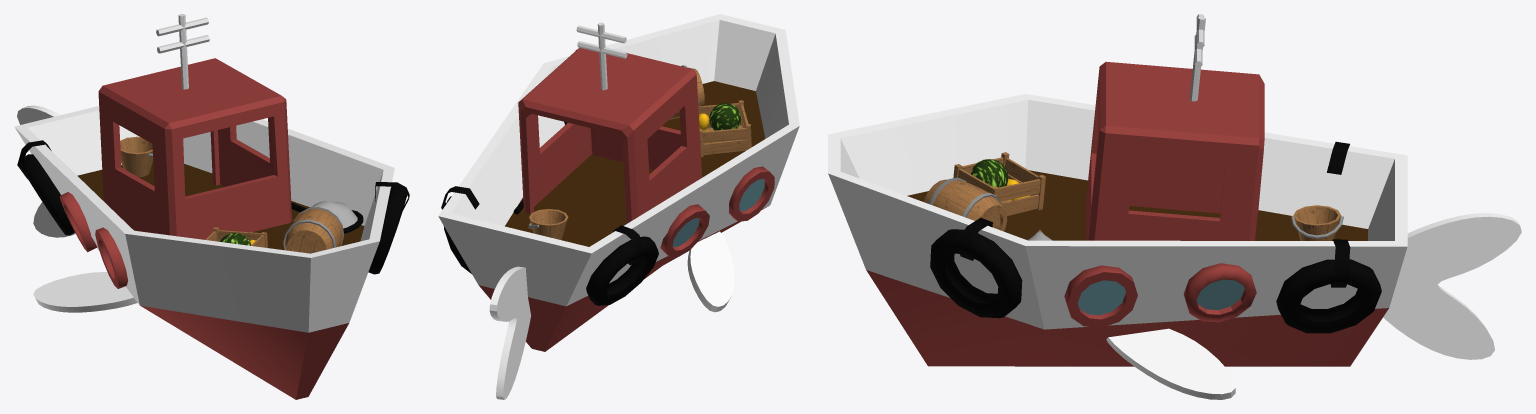
Rendered from korablya.fbx.
3 renders of one model, left to right at view 1: azimuth 30°, elevation 25°; view 2: azimuth 150°, elevation 25°; view 3: azimuth 270°, elevation 25°, orthographic. The views are drawn at different scales.
Parts seen in each view (by area): view 1: Cube, Cube.001, Cylinder.003, Cube.002, Cylinder.002, Cylinder, Cube.006; view 2: Cube, Cube.002, Cube.001, Cube.006, Cylinder.002; view 3: Cube, Cube.002, Cube.003, Cube.006, Cylinder.003, Cylinder.002.
Boxes of the visible parts, box(x1,y1,x2,y2) form: Cube: box(14, 14, 409, 399); Cube.001: box(33, 272, 137, 312); Cylinder.003: box(283, 207, 344, 253); Cube.002: box(17, 105, 75, 237); Cylinder.002: box(120, 136, 153, 177); Cylinder: box(291, 200, 363, 233); Cube.006: box(205, 227, 267, 247); Cube: box(438, 14, 799, 351); Cube.002: box(489, 266, 531, 399); Cube.001: box(687, 231, 734, 312); Cube.006: box(698, 100, 751, 157); Cylinder.002: box(528, 209, 568, 240); Cube: box(828, 14, 1407, 366); Cube.002: box(1383, 213, 1521, 359); Cube.003: box(1106, 328, 1235, 399); Cube.006: box(953, 152, 1045, 216); Cylinder.003: box(923, 177, 1007, 231); Cylinder.002: box(1291, 205, 1343, 240).
Bounding box in the file's own units: 366 × 682 × 379.
